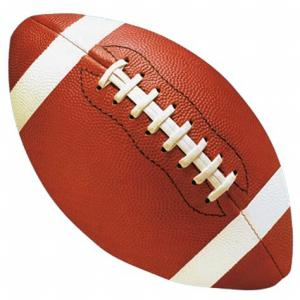Rugby: (8, 13, 293, 290)
